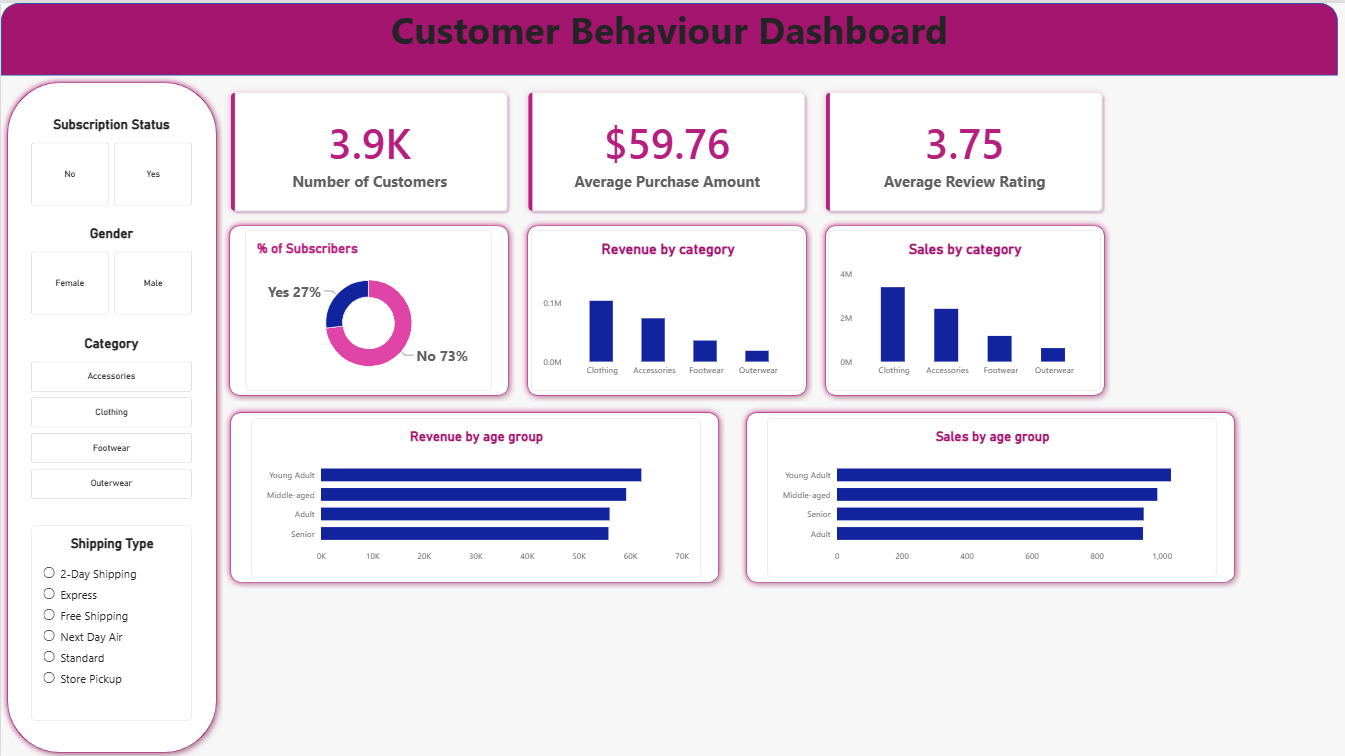

This screenshot's page, from the dashboard's own definition file:
{"tool":"powerbi","page":{"name":"Page 1","canvas":[1920,1080],"ordinal":0},"visuals":[{"type":"cardVisual","fields":{"Data":["public customer.Number of Customers","public customer.Average Purchase Amount","public customer.Average Review Rating"]},"box":[317.1,117.1,1268.6,191.4],"z":0},{"type":"shape","box":[1055,576.2,716.2,261.2],"z":0,"group":"g2"},{"type":"shape","box":[0,0,1909.8,103.6],"z":1},{"type":"textbox","box":[0,0,1910,103.8],"z":2},{"type":"shape","box":[317.1,308.6,417.1,261.4],"z":3},{"type":"donutChart","title":"% of Subscribers","fields":{"Category":["public customer.subscription_status"],"Y":["CountNonNull(public customer.customer_id)"]},"box":[348.6,324.3,353.3,230],"z":4},{"type":"shape","box":[742.9,308.6,417.1,261.4],"z":5},{"type":"shape","box":[1168.6,308.6,417.1,261.4],"z":6},{"type":"clusteredColumnChart","title":"Revenue by category","fields":{"Category":["public customer.category"],"Y":["Sum(public customer.purchase_amount)"]},"box":[757.1,324.3,390,230],"z":7},{"type":"clusteredColumnChart","title":"Sales by category","fields":{"Category":["public customer.category"],"Y":["Sum(public customer.customer_id)"]},"box":[1181.4,324.3,390,230],"z":8},{"type":"shape","box":[0,104.3,317.1,975.7],"z":9},{"type":"advancedSlicerVisual","title":"Subscription Status","fields":{"Values":["public customer.subscription_status"]},"box":[42.9,161.4,230,128.6],"z":10},{"type":"advancedSlicerVisual","title":"Gender","fields":{"Values":["public customer.gender"]},"box":[42.9,317.1,230,128.6],"z":11},{"type":"advancedSlicerVisual","title":"Category","fields":{"Values":["public customer.category"]},"box":[42.9,474.3,230,234.3],"z":12},{"type":"listSlicer","title":"Shipping Type","fields":{"Values":["public customer.shipping_type"]},"box":[42.9,745.7,230,280],"z":13},{"type":"shape","box":[318.8,576.2,716.2,261.2],"z":15,"group":"g1"},{"type":"clusteredBarChart","title":"Revenue by age group","fields":{"Category":["public customer.age_group"],"Y":["Sum(public customer.purchase_amount)"]},"box":[357.6,593.7,642.5,227.5],"z":16,"group":"g1"},{"type":"group","id":"g1","title":"Group 1","box":[318.8,576.2,716.2,261.2],"z":17},{"type":"group","id":"g2","title":"Group 1","box":[1055,576.2,716.2,261.2],"z":18},{"type":"clusteredBarChart","title":"Sales by age group","fields":{"Category":["public customer.age_group"],"Y":["CountNonNull(public customer.customer_id)"]},"box":[1093.8,593.7,642.5,227.5],"z":1000,"group":"g2"}]}

Visuals, with their boxes in screenshot pixels (x1, y1, x2, y2), scaled from the page's 1920x1080 canvas onto the 1345x756 screenshot:
cardVisual - public customer.Number of Customers x public customer.Average Purchase Amount: x1=222, y1=82, x2=1111, y2=216
shape: x1=739, y1=403, x2=1241, y2=586
shape: x1=0, y1=0, x2=1338, y2=73
textbox: x1=0, y1=0, x2=1338, y2=73
shape: x1=222, y1=216, x2=514, y2=399
"% of Subscribers" donutChart: x1=244, y1=227, x2=492, y2=388
shape: x1=520, y1=216, x2=813, y2=399
shape: x1=819, y1=216, x2=1111, y2=399
"Revenue by category" clusteredColumnChart: x1=530, y1=227, x2=804, y2=388
"Sales by category" clusteredColumnChart: x1=828, y1=227, x2=1101, y2=388
shape: x1=0, y1=73, x2=222, y2=755
"Subscription Status" advancedSlicerVisual: x1=30, y1=113, x2=191, y2=203
"Gender" advancedSlicerVisual: x1=30, y1=222, x2=191, y2=312
"Category" advancedSlicerVisual: x1=30, y1=332, x2=191, y2=496
"Shipping Type" listSlicer: x1=30, y1=522, x2=191, y2=718
shape: x1=223, y1=403, x2=725, y2=586
"Revenue by age group" clusteredBarChart: x1=251, y1=416, x2=701, y2=575
"Group 1" group: x1=223, y1=403, x2=725, y2=586
"Group 1" group: x1=739, y1=403, x2=1241, y2=586
"Sales by age group" clusteredBarChart: x1=766, y1=416, x2=1216, y2=575
